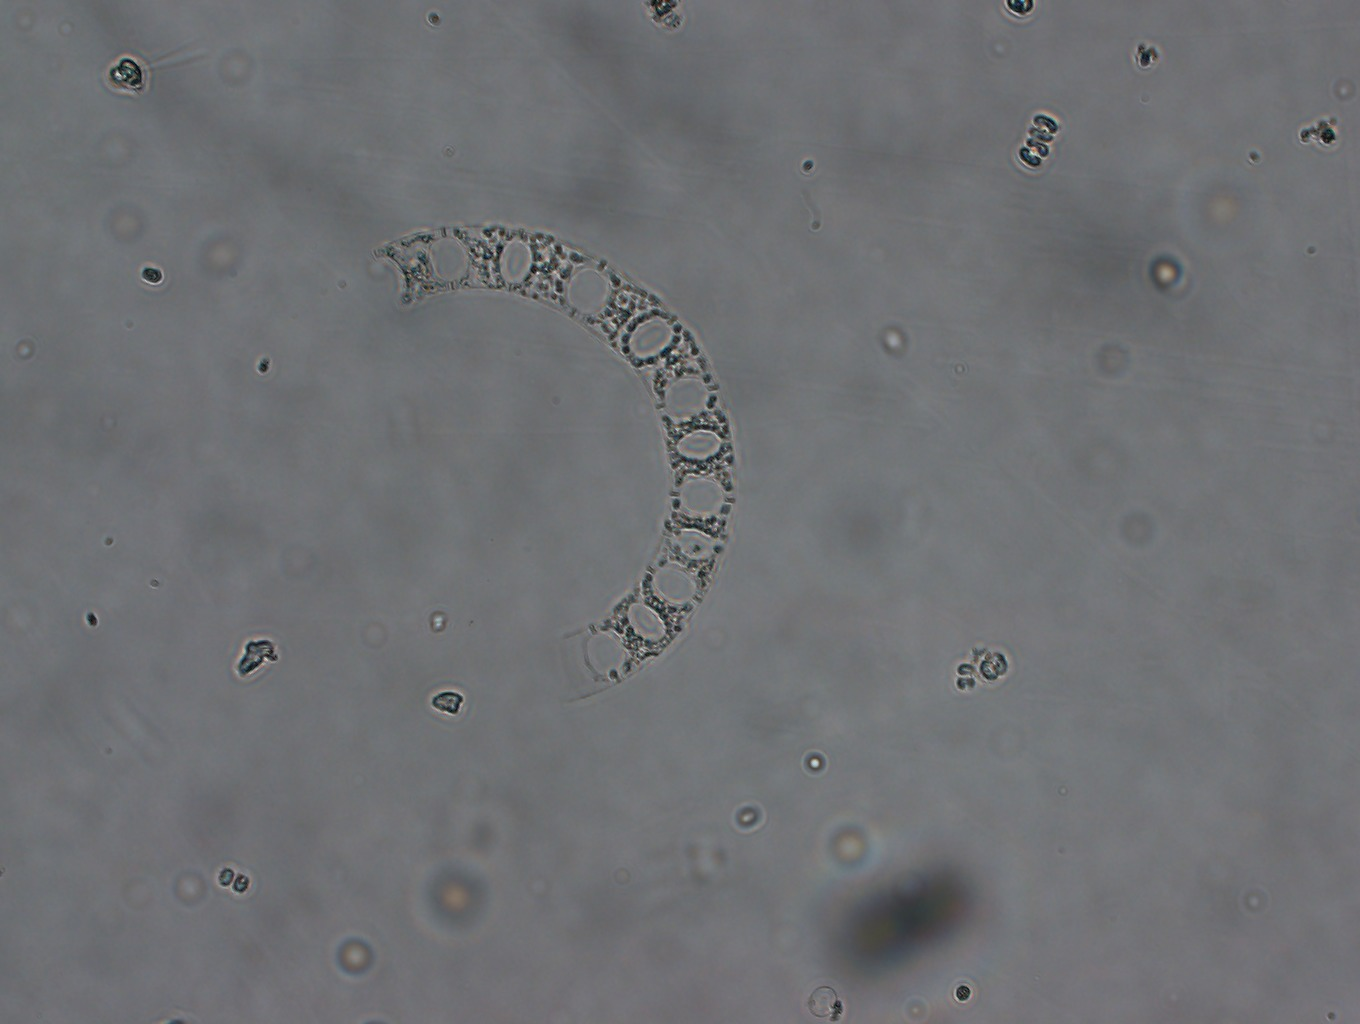eucampia: (356, 207, 749, 712)
